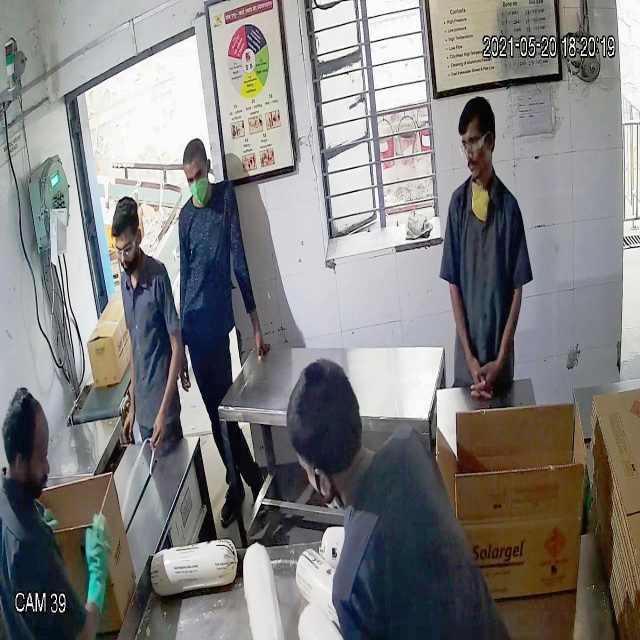Gafas: (458, 133, 495, 159), (109, 239, 140, 261)
Sin_gafas: (182, 164, 209, 184)
